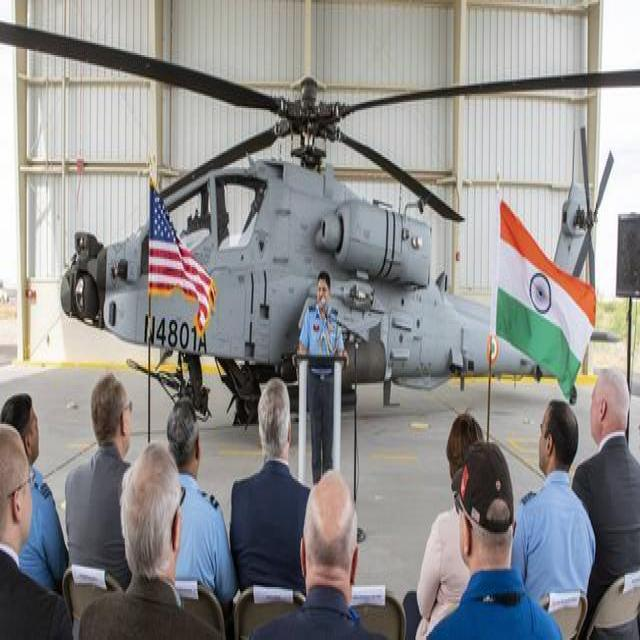MIL_HELO: (4, 4, 640, 420)
